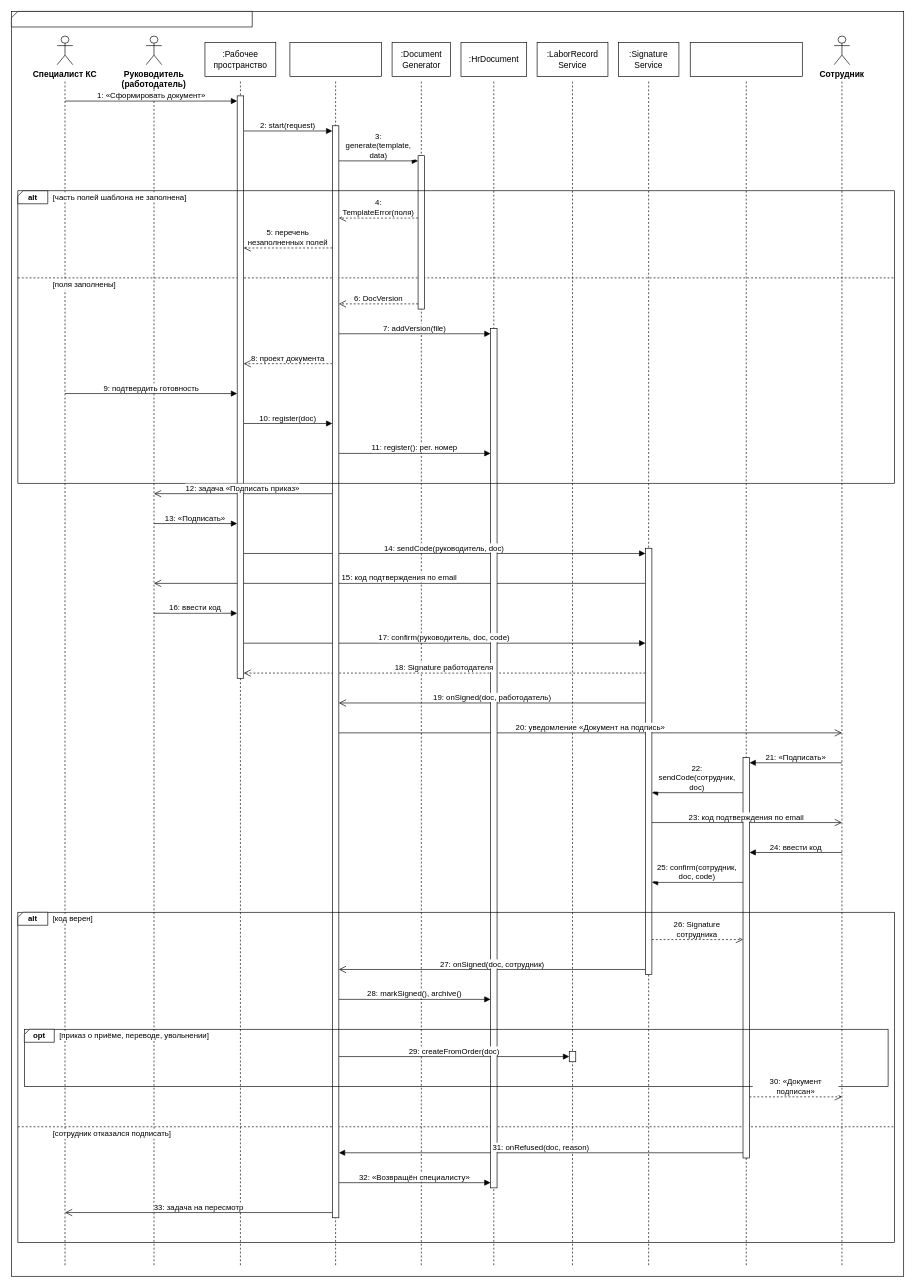
The diagram is 915 pixels wide and 1288 high, and some of its shapes have lost their labels. Here are the shapes that lost their labels. From the top down, the centre of each, then its label:
At point 131,19: "sd UC-3 Формирование и подписание документа".
At point 335,59: ":DocumentSigning Process".
At point 746,59: ":Портал (DocumentController)".
